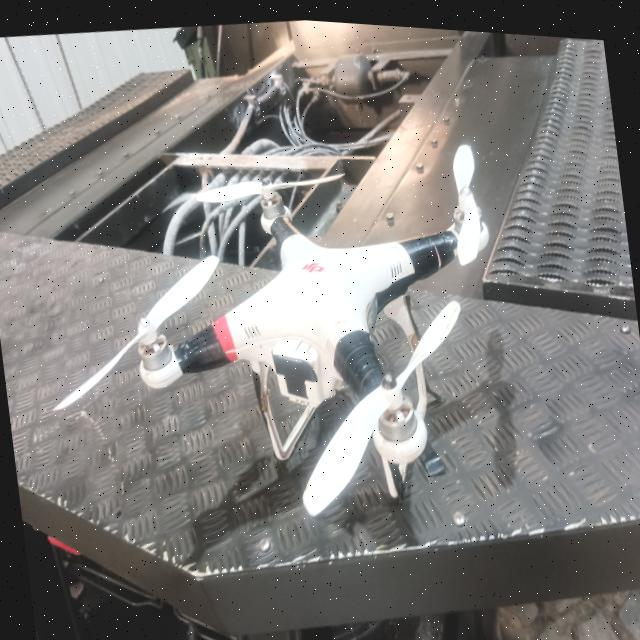drone: (0, 77, 564, 575)
